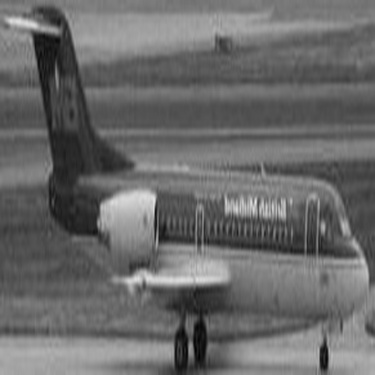airplane: (4, 2, 358, 369)
